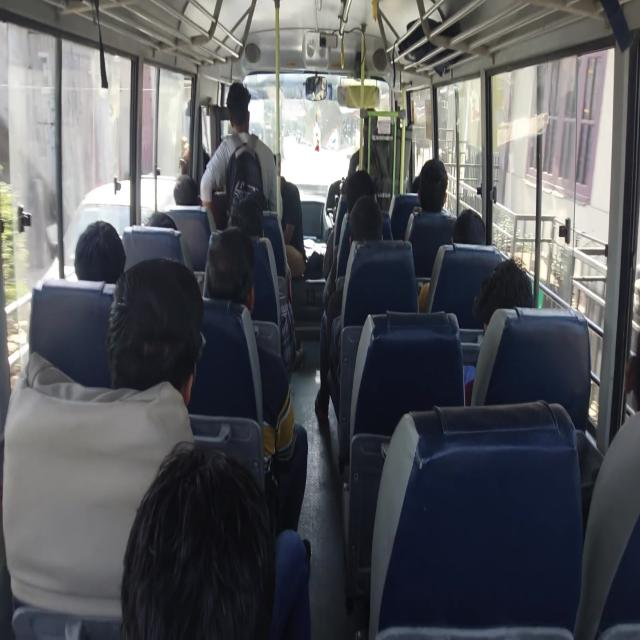person: (115, 439, 385, 640), (102, 285, 234, 445), (245, 120, 309, 280), (496, 254, 549, 359), (203, 239, 263, 317), (78, 227, 134, 293), (451, 208, 506, 268), (229, 172, 276, 226), (227, 208, 278, 246), (412, 156, 442, 220), (139, 207, 176, 248), (224, 80, 249, 138), (183, 142, 208, 191), (338, 177, 369, 215), (350, 204, 378, 246), (168, 184, 198, 216), (404, 175, 424, 198)
